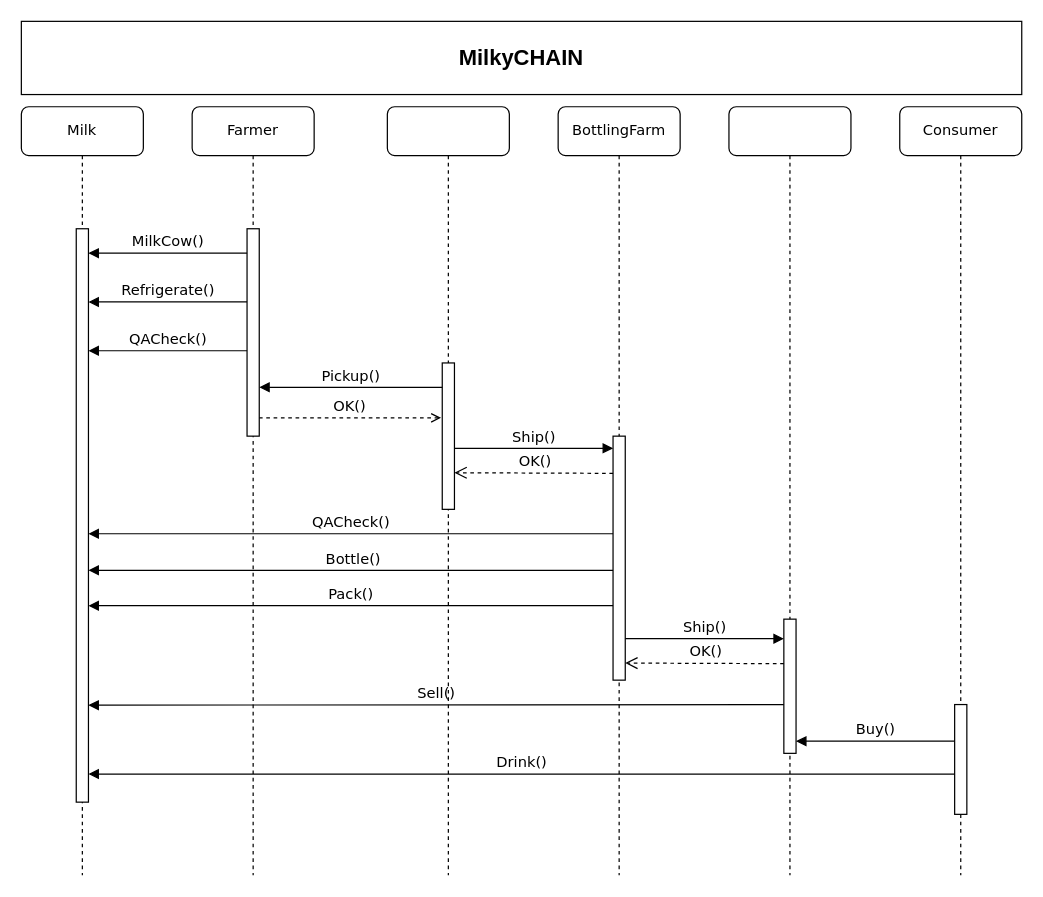
Image size: 1043x897. Some labels were removed from this diagram. The box of each missing label's shape, as (x1, y1, x2, y2) in pixels:
Distributor: (728, 106, 851, 875)
Transporter: (386, 106, 509, 875)
